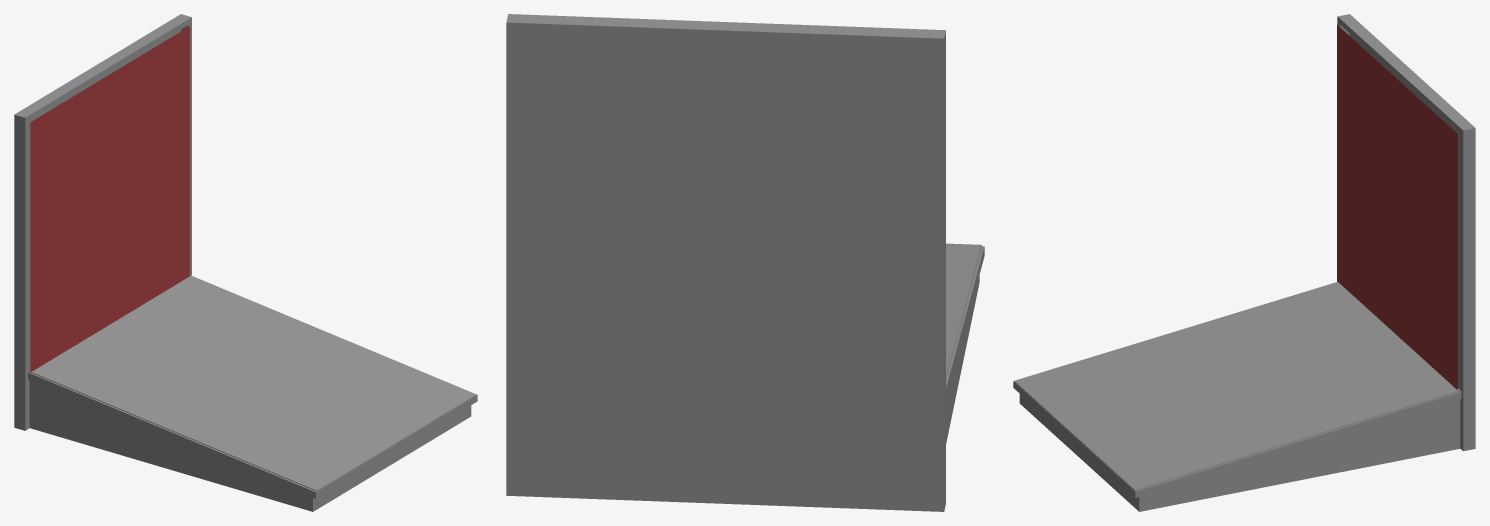
The model's file is SK5_Initiative_Highlighter_glass089.FBX.
3 views of the same model, side by side, from view 1: azimuth 30°, elevation 25°; view 2: azimuth 150°, elevation 25°; view 3: azimuth 270°, elevation 25° (orthographic). The views are drawn at different scales.
Parts seen in each view (by area): view 1: SK5_Initiative_Highlighter_glass089; view 2: SK5_Initiative_Highlighter_glass089; view 3: SK5_Initiative_Highlighter_glass089.
Boxes of the visible parts, left/top/right/bottom form: SK5_Initiative_Highlighter_glass089: left=14, top=14, right=477, bottom=511; SK5_Initiative_Highlighter_glass089: left=506, top=14, right=984, bottom=511; SK5_Initiative_Highlighter_glass089: left=1013, top=14, right=1475, bottom=511.
Bounding box in the file's own units: 48.5 × 40.44 × 52.84.
